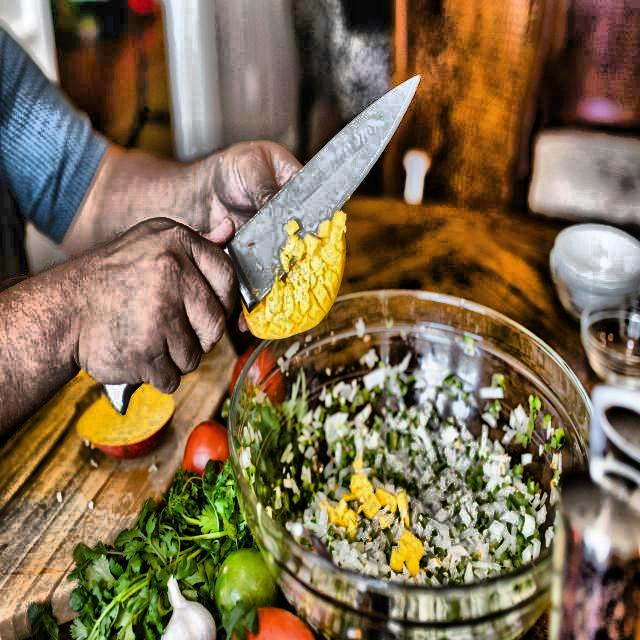knife: (101, 69, 432, 418)
